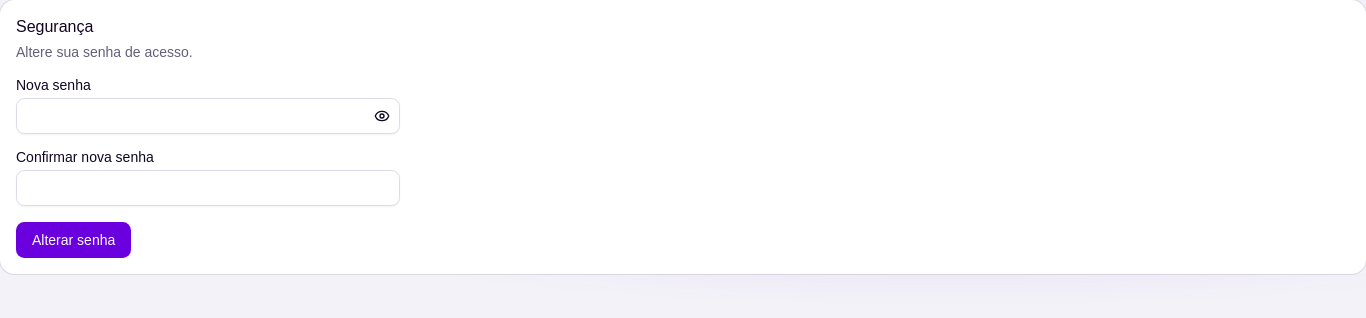
Test: PasswordSection › exibe erro quando as senhas nao coincidem
Type "senha123" into the password field labelled "Nova senha" at (208, 116), box [16, 98, 400, 134]
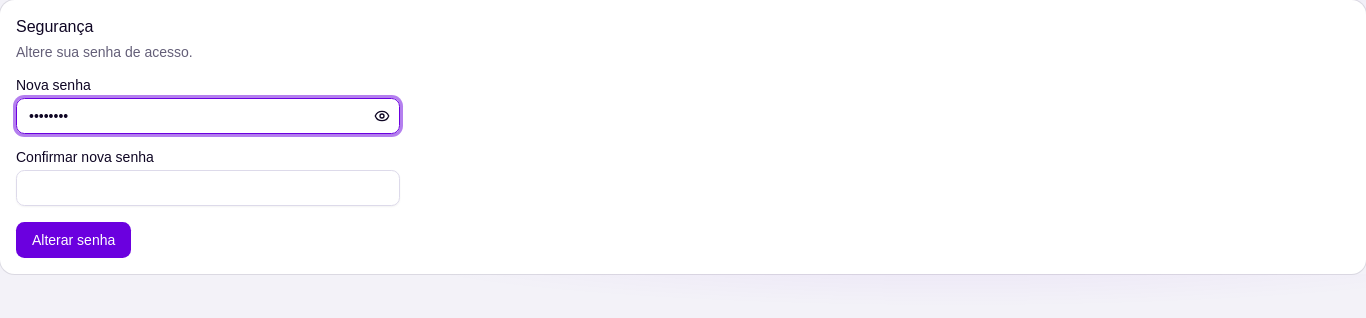
Type "outraSenha" into the password field labelled "Confirmar nova senha" at (208, 188), box [16, 170, 400, 206]
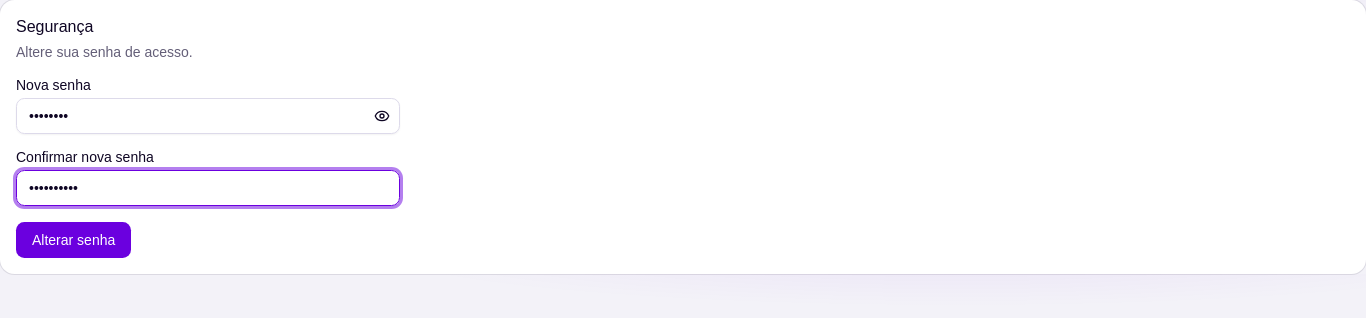
Click the button "Alterar senha" at (74, 240), box [16, 222, 131, 258]
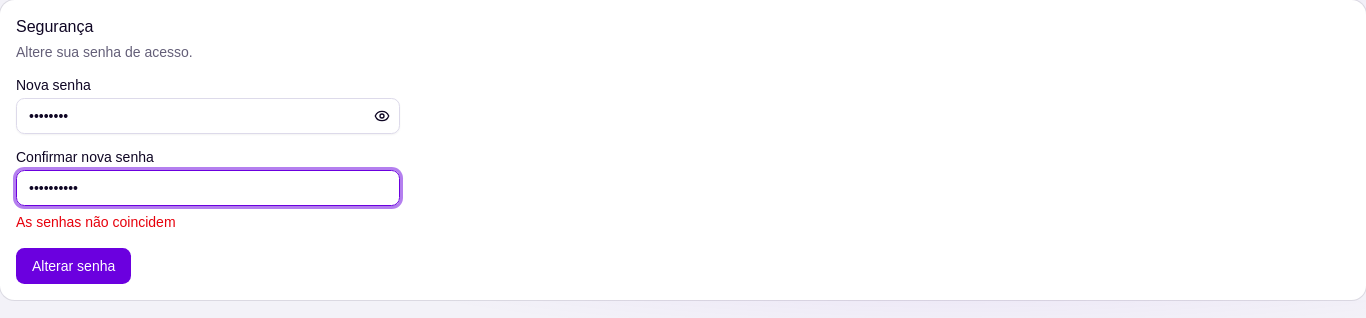
Check: the text "As senhas não coincidem" is shown, box [16, 214, 176, 230]
